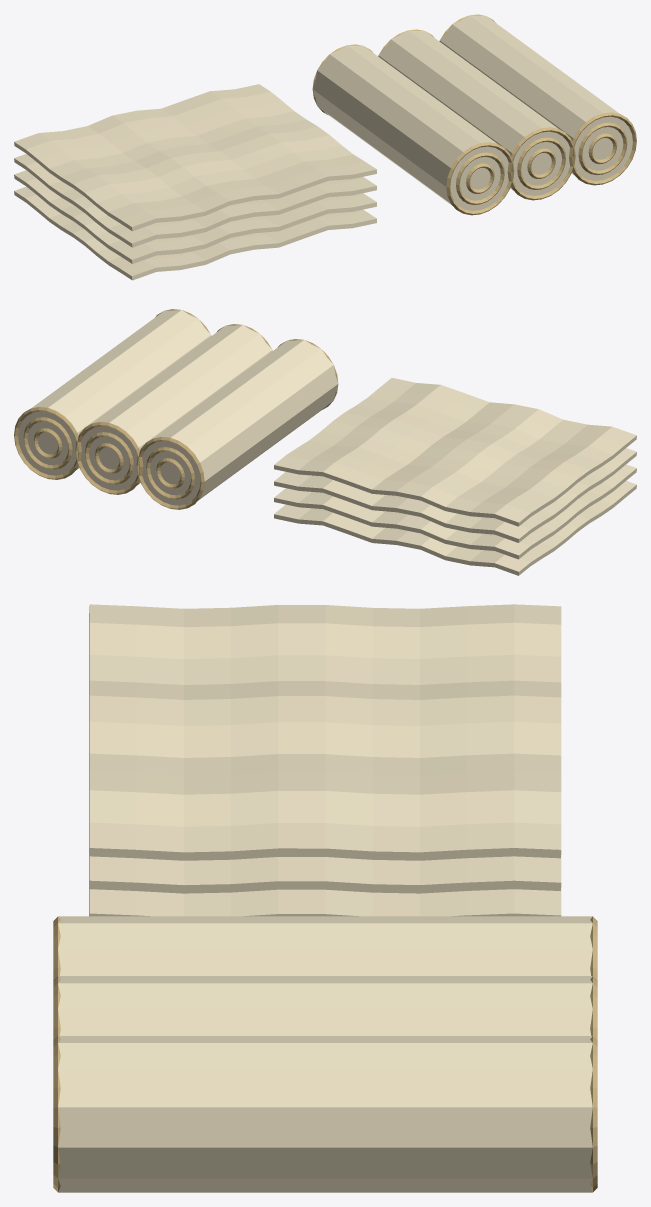
The picture shows the model from 3 angles, top to bottom: view 1: azimuth 30°, elevation 25°; view 2: azimuth 150°, elevation 25°; view 3: azimuth 270°, elevation 25°; orthographic projection. The views are drawn at different scales.
Visible parts, largest first — view 1: BA-0052 batched; view 2: BA-0052 batched; view 3: BA-0052 batched.
Part boxes in pixels (x1=…): BA-0052 batched: x1=14, y1=14, x2=636, y2=280; BA-0052 batched: x1=14, y1=309, x2=636, y2=575; BA-0052 batched: x1=53, y1=604, x2=597, y2=1192.
Bounding box in the file's own units: 0.73 × 0.1 × 0.346.
